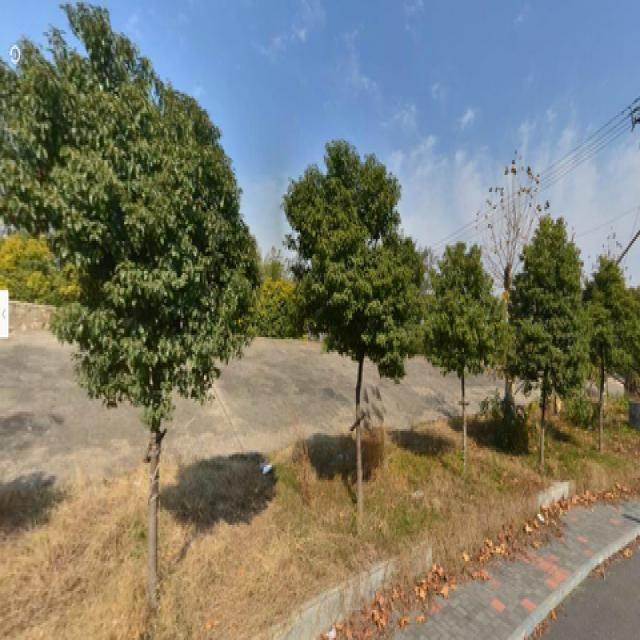cinn: (71, 83, 217, 623), (308, 173, 415, 542), (504, 217, 576, 458), (432, 256, 500, 465)
